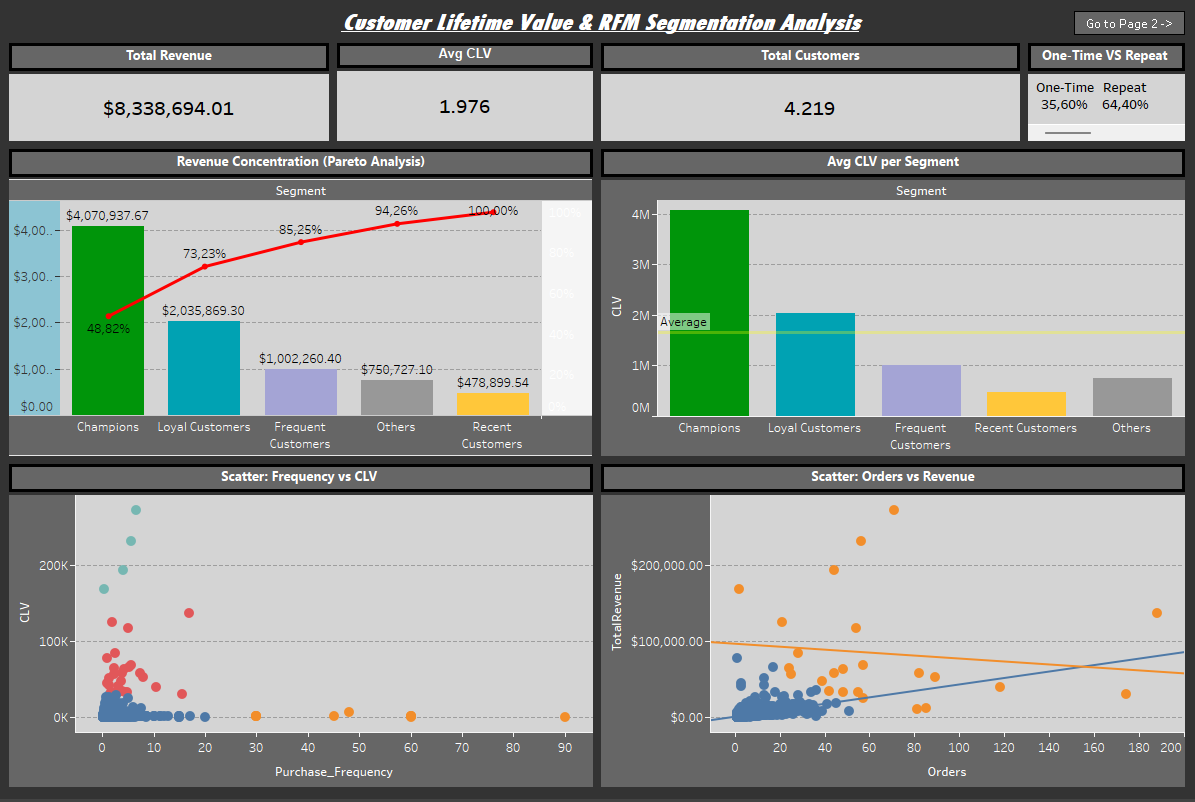

The page's visual inventory and layout, read from the dashboard file:
{"tool":"tableau","page":{"name":"Page 1","canvas":[1200,800],"ordinal":0},"visuals":[{"type":"text","box":[342,1,665,44]},{"type":"dashboard-object","box":[1073,8,119,32]},{"type":"worksheet","title":"Total Revenue","mark":"Automatic","box":[8,40,339,106]},{"type":"worksheet","title":"Avg CLV","mark":"Automatic","box":[347,40,276,106]},{"type":"worksheet","title":"Total Customers","mark":"Automatic","box":[623,40,404,106]},{"type":"worksheet","title":"Repeat Rate","mark":"Automatic","box":[1027,40,165,106]},{"type":"worksheet","title":"Revenue Concentration (Pareto Analysis)","mark":"Bar","rows":["TotalRevenue","TotalRevenue"],"cols":["Segment"],"box":[8,146,592,315.1]},{"type":"worksheet","title":"Avg CLV per Segment","mark":"Automatic","rows":["CLV"],"cols":["Segment"],"box":[600,146,592,315.1]},{"type":"worksheet","title":" Frequency vs CLV","mark":"Circle","rows":["CLV"],"cols":["Purchase_Frequency"],"box":[8,461.1,592,330.9]},{"type":"worksheet","title":"Orders vs Revenue","mark":"Circle","rows":["TotalRevenue"],"cols":["Orders"],"box":[600,461.1,592,330.9]}]}

Visuals, with their boxes in screenshot pixels (x1, y1, x2, y2), scaled from the page's 1200x800 canvas onto the 1195x802 screenshot:
text: [left=341, top=1, right=1003, bottom=45]
dashboard-object: [left=1069, top=8, right=1187, bottom=40]
"Total Revenue" worksheet: [left=8, top=40, right=346, bottom=146]
"Avg CLV" worksheet: [left=346, top=40, right=620, bottom=146]
"Total Customers" worksheet: [left=620, top=40, right=1023, bottom=146]
"Repeat Rate" worksheet: [left=1023, top=40, right=1187, bottom=146]
"Revenue Concentration (Pareto Analysis)" worksheet (Bar marks): [left=8, top=146, right=598, bottom=462]
"Avg CLV per Segment" worksheet: [left=598, top=146, right=1187, bottom=462]
" Frequency vs CLV" worksheet (Circle marks): [left=8, top=462, right=598, bottom=794]
"Orders vs Revenue" worksheet (Circle marks): [left=598, top=462, right=1187, bottom=794]
